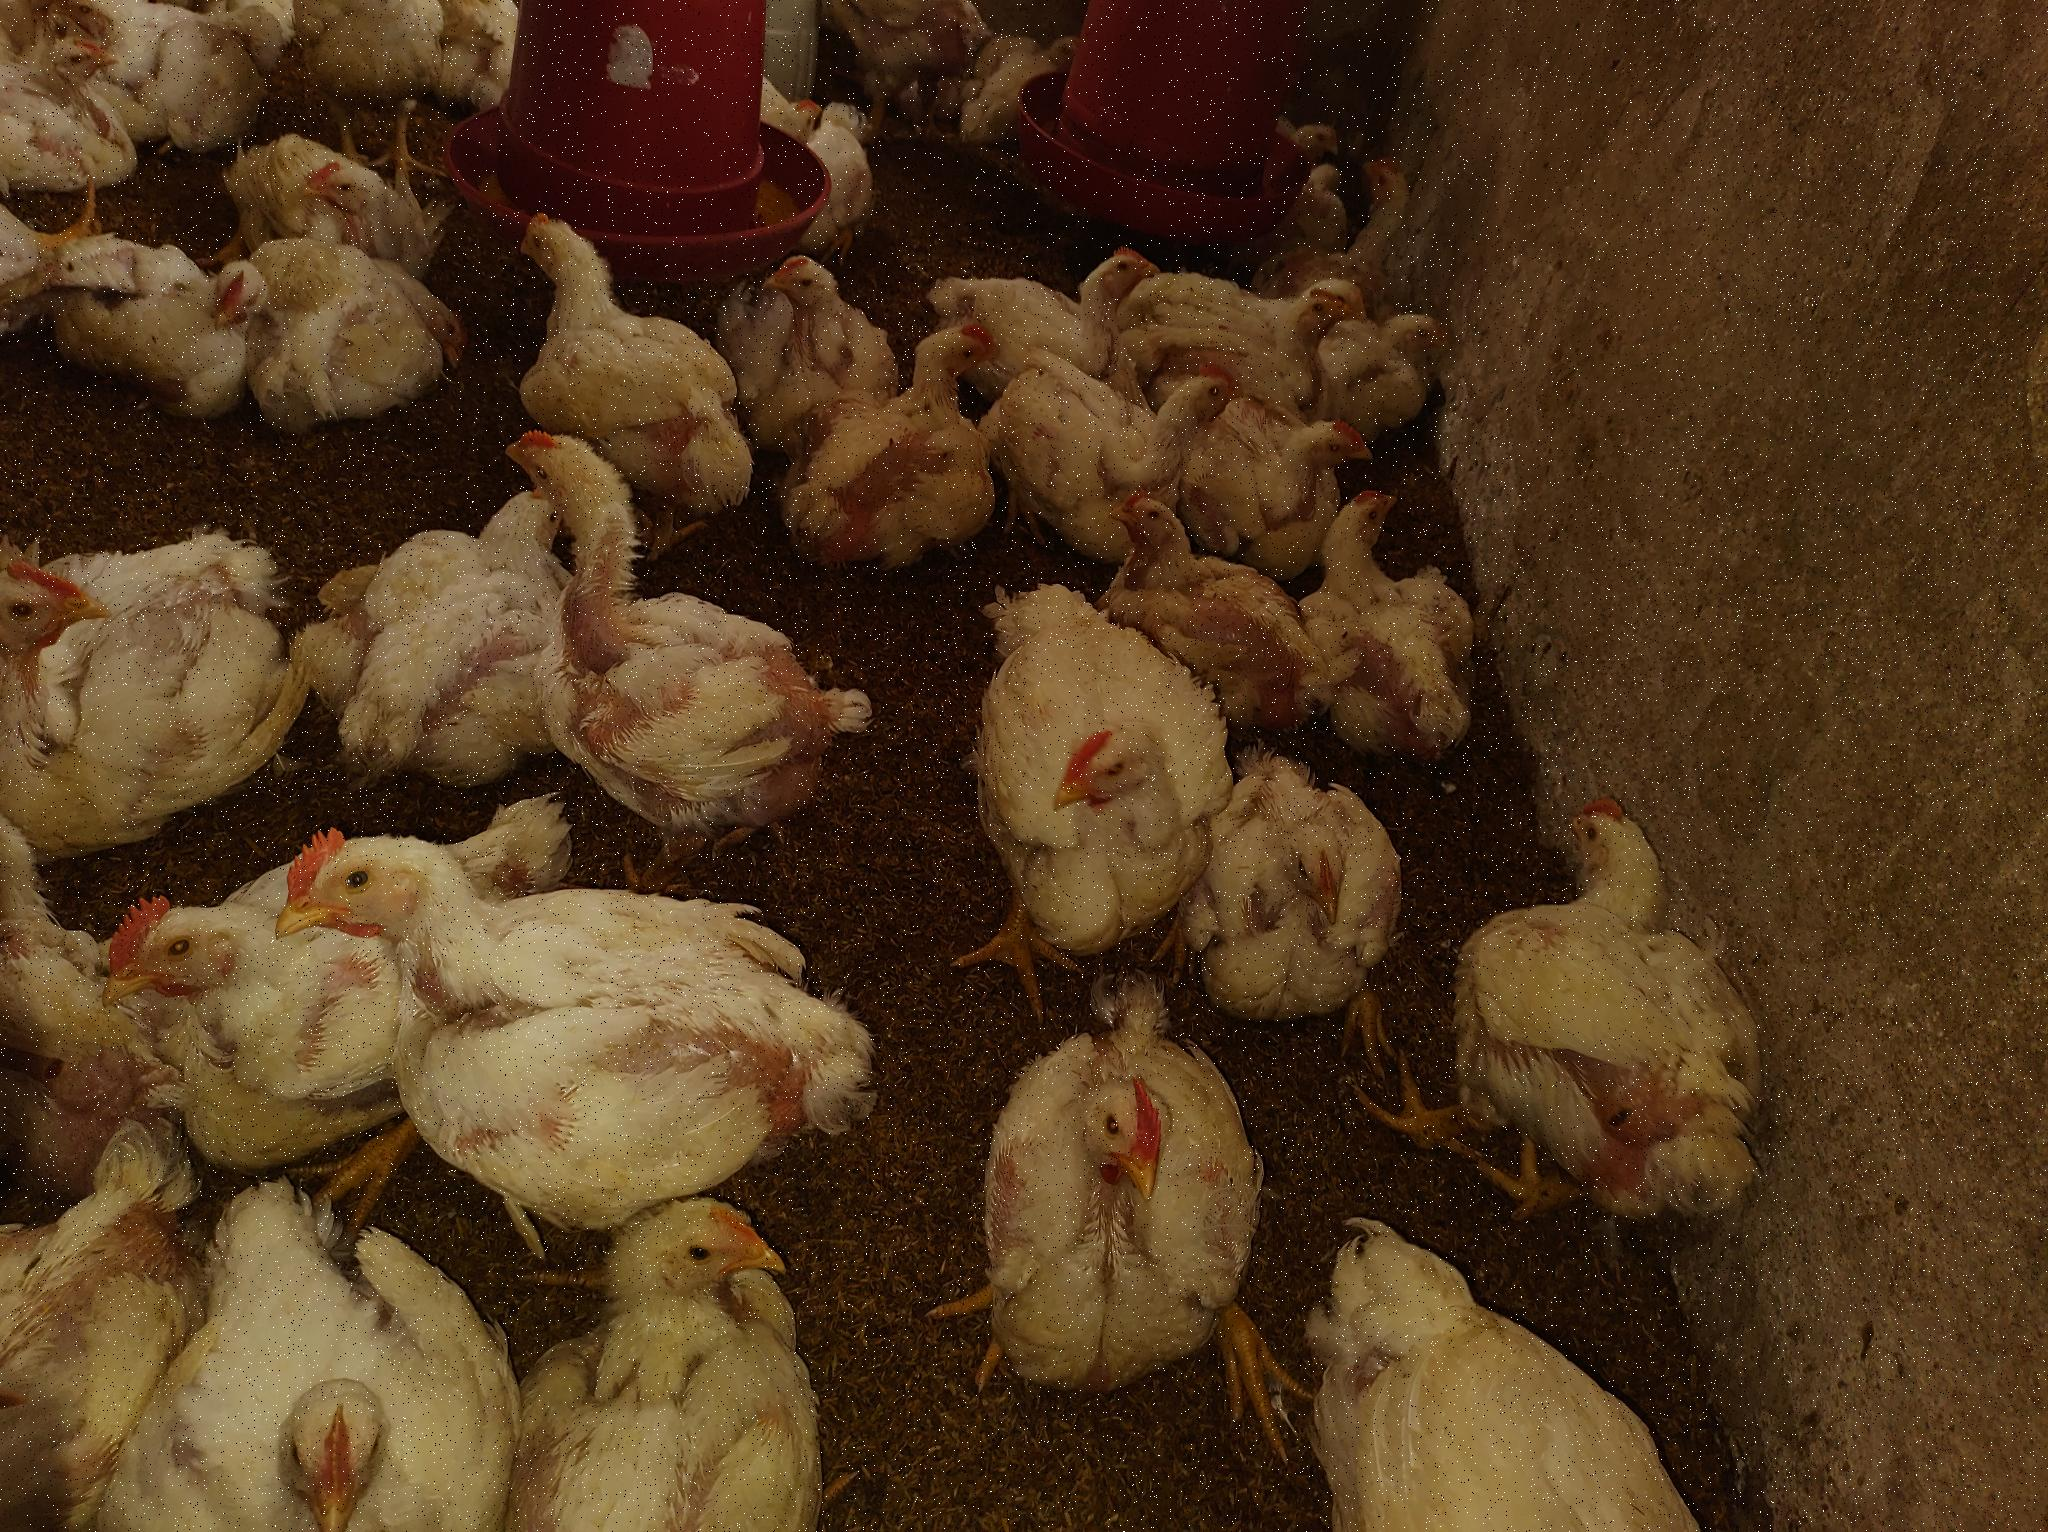Pollos: (286, 824, 880, 1226), (1499, 747, 1800, 1247), (1290, 1200, 1741, 1532), (497, 446, 883, 829), (487, 1167, 837, 1529), (968, 996, 1260, 1423), (145, 1181, 499, 1532), (957, 599, 1260, 975), (74, 882, 423, 1157), (6, 533, 298, 851), (491, 203, 800, 500), (306, 496, 584, 790), (2, 1096, 201, 1506), (1210, 768, 1417, 1043), (1308, 455, 1490, 740), (198, 225, 455, 423), (808, 323, 1022, 552), (991, 348, 1239, 534), (37, 225, 262, 404), (1105, 496, 1293, 706), (726, 225, 890, 414), (1152, 243, 1350, 377), (241, 132, 405, 274), (2, 35, 127, 216), (299, 2, 547, 92), (954, 225, 1149, 340), (968, 31, 1118, 154), (763, 101, 874, 267), (138, 18, 265, 150), (1330, 290, 1466, 394), (1274, 159, 1351, 277), (730, 68, 812, 154), (1367, 159, 1451, 243), (1265, 98, 1347, 148)
